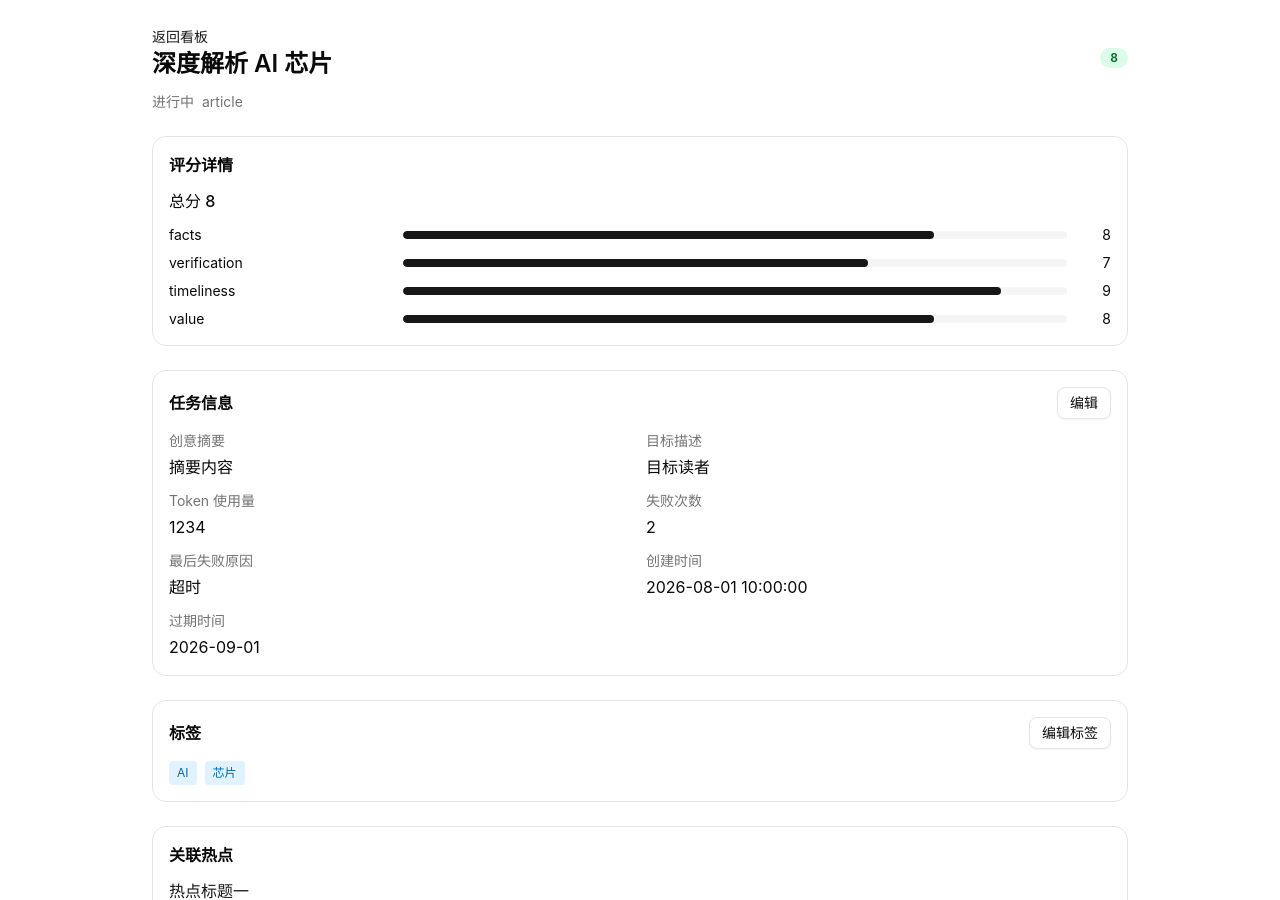
Test: TaskDetailPage 信息编辑 › 点击编辑按钮显示表单并预填当前值
Expected: the heading "深度解析 AI 芯片" is shown, [152, 48, 332, 80]
Click the button "编辑": point(1084, 403) [1057, 387, 1111, 419]
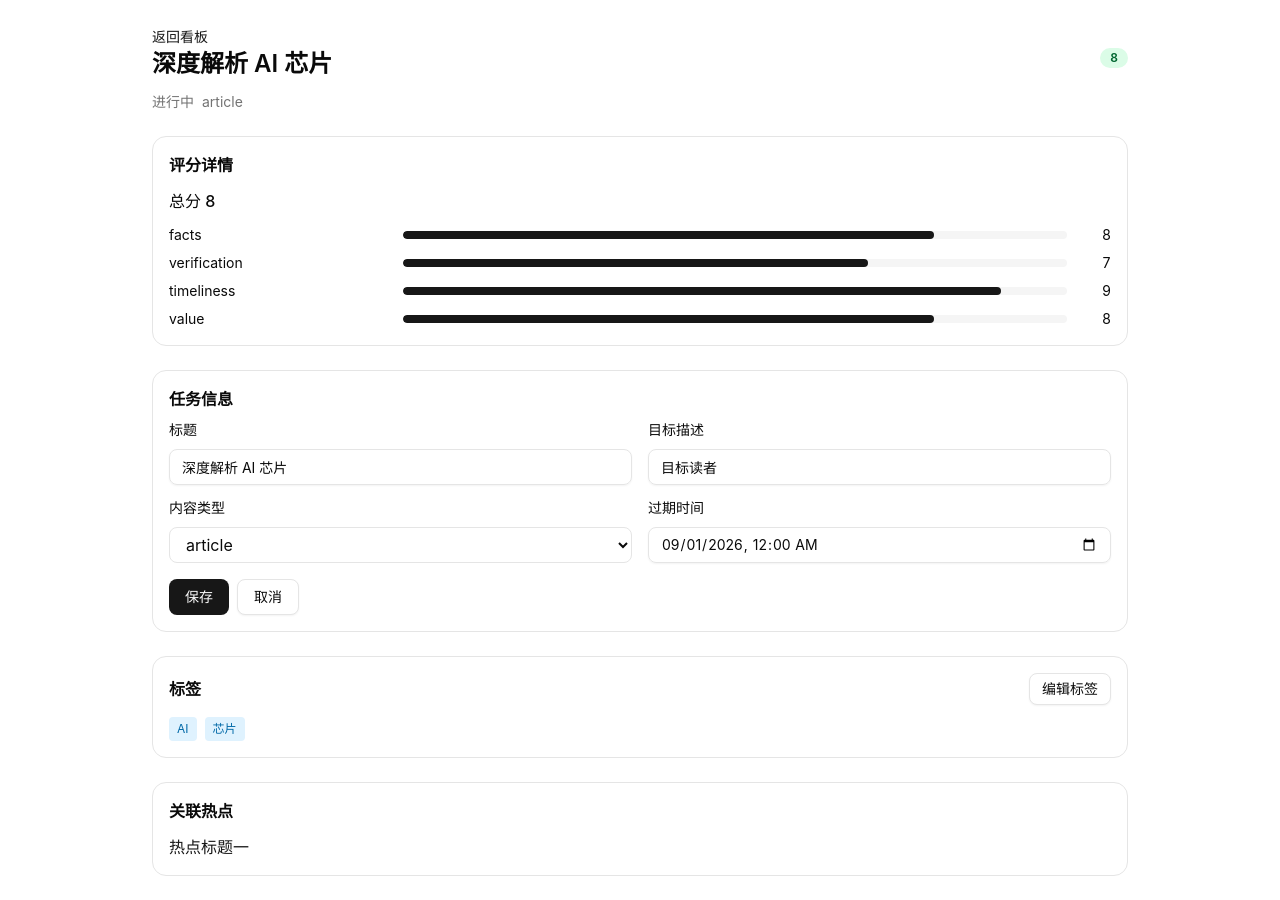
Expected: the field labelled "标题" holds "深度解析 AI 芯片", [169, 449, 632, 485]
Expected: the field labelled "目标描述" holds "目标读者", [648, 449, 1111, 485]
Expected: the dropdown labelled "内容类型" shows "article", [169, 527, 632, 563]
